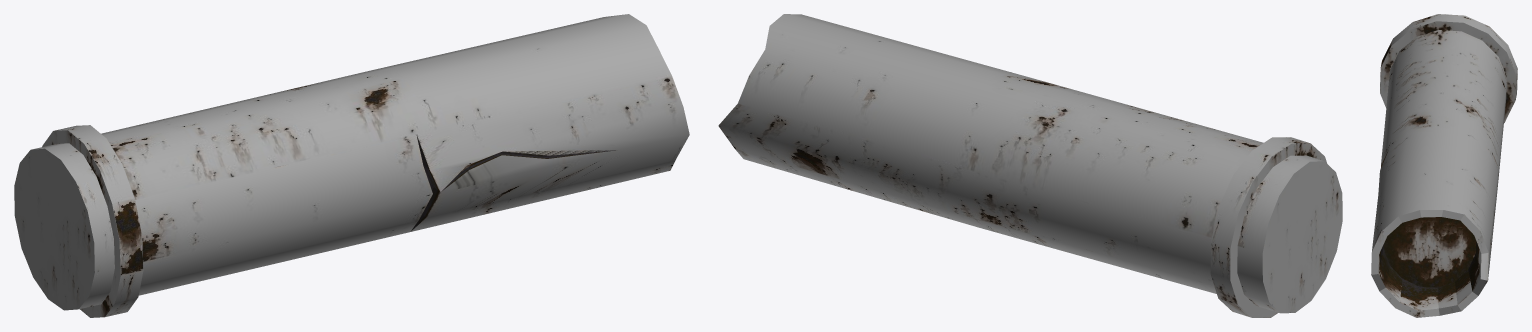
Rendered from CBPipe.fbx.
3 renders of one model, left to right at view 1: azimuth 30°, elevation 25°; view 2: azimuth 150°, elevation 25°; view 3: azimuth 270°, elevation 25°, orthographic. The views are drawn at different scales.
Parts seen in each view (by area): view 1: CBPipe; view 2: CBPipe; view 3: CBPipe.
Boxes of the visible parts, x1=… form: CBPipe: x1=14, y1=14, x2=689, y2=317; CBPipe: x1=718, y1=14, x2=1342, y2=317; CBPipe: x1=1371, y1=14, x2=1517, y2=317.
Bounding box in the file's own units: 8.16 × 2.3 × 2.45.
Materials: 1 (1 with a texture image).
